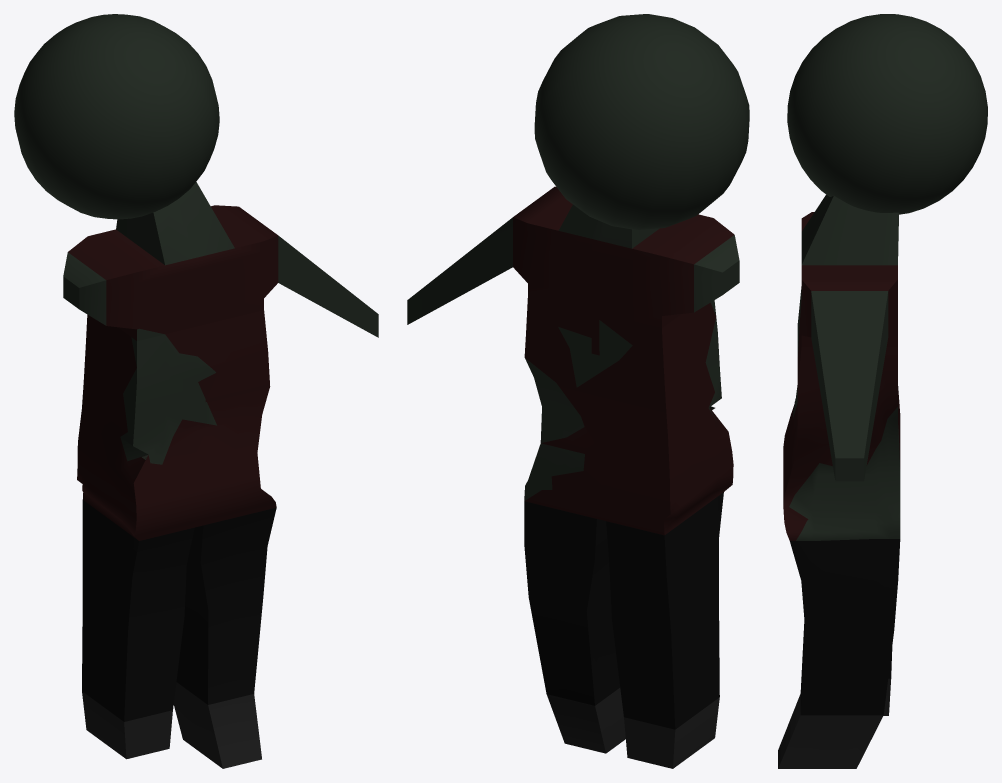
File: male_zom2.obj
3 views of the same model, side by side, from view 1: azimuth 30°, elevation 25°; view 2: azimuth 150°, elevation 25°; view 3: azimuth 270°, elevation 25° (orthographic). The views are drawn at different scales.
Parts seen in each view (by area): view 1: pSphere9; view 2: pSphere9; view 3: pSphere9.
Part boxes in pixels (<box>): pSphere9: <box>14,14,378,768</box>; pSphere9: <box>407,14,749,768</box>; pSphere9: <box>778,14,987,768</box>.
Size of the model in its own units: 3.63 by 7.67 by 2.07.
